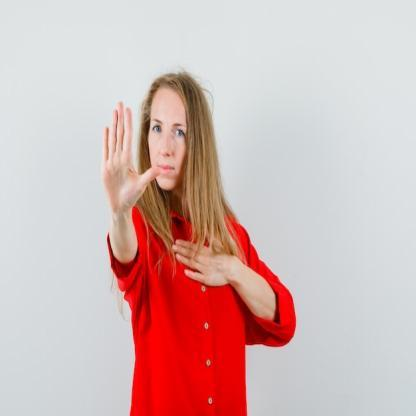stop: (98, 96, 162, 214)
